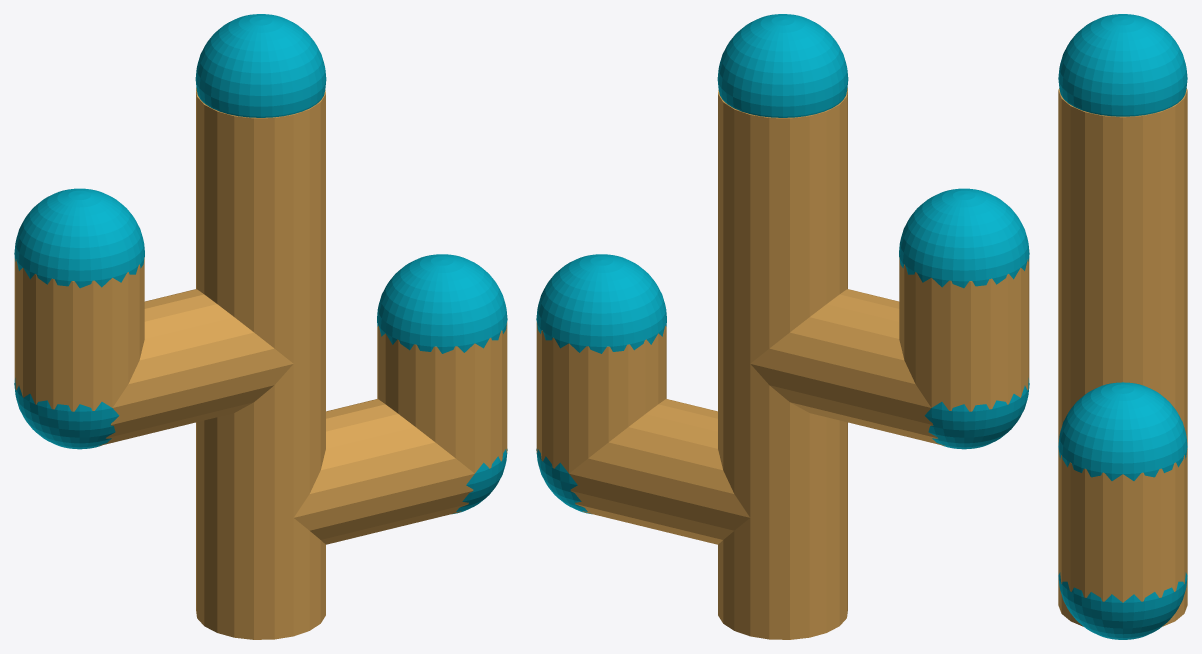
The picture shows the model from 3 angles, left to right: view 1: azimuth 30°, elevation 25°; view 2: azimuth 150°, elevation 25°; view 3: azimuth 270°, elevation 25°; orthographic projection.
Parts seen in each view (by area): view 1: Mesh_Mesh_head_geo.001_lambert2SG.001; view 2: Mesh_Mesh_head_geo.001_lambert2SG.001; view 3: Mesh_Mesh_head_geo.001_lambert2SG.001.
Boxes of the visible parts, x1=… form: Mesh_Mesh_head_geo.001_lambert2SG.001: x1=14, y1=14, x2=507, y2=639; Mesh_Mesh_head_geo.001_lambert2SG.001: x1=536, y1=14, x2=1029, y2=639; Mesh_Mesh_head_geo.001_lambert2SG.001: x1=1058, y1=14, x2=1187, y2=639.
Size of the model in its own units: 42 by 50 by 10.
